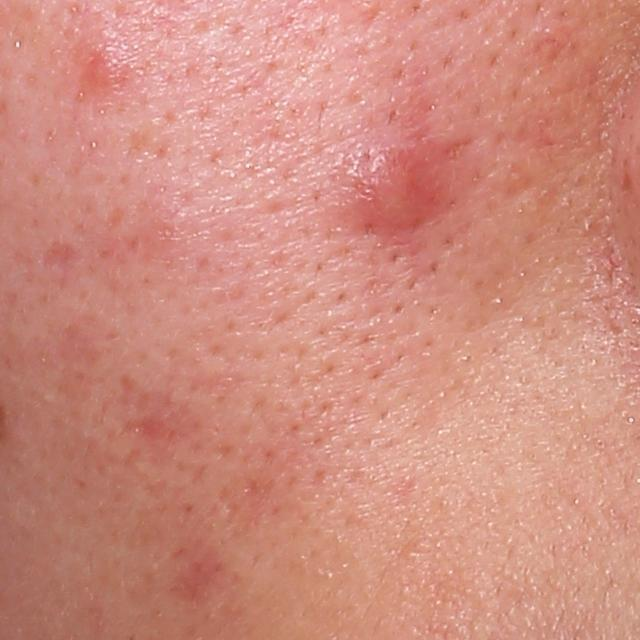atrophic_scar: (41, 241, 85, 292), (119, 413, 184, 446)
papule: (347, 137, 446, 234), (79, 52, 127, 88)
